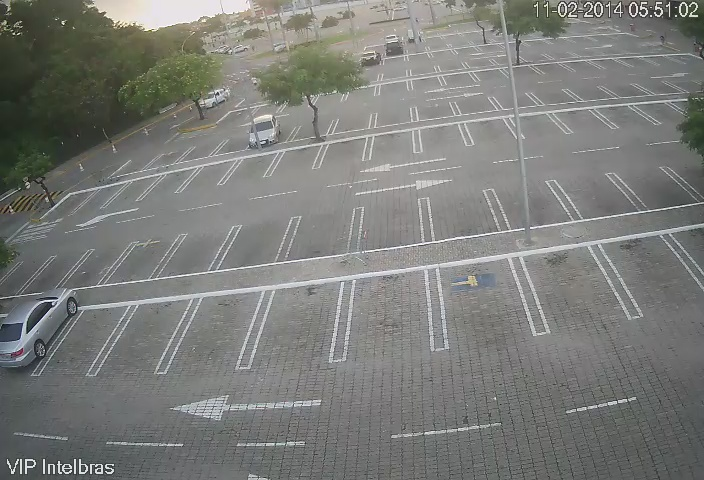car: (12, 295, 59, 360), (241, 118, 280, 147)
lot: (430, 255, 542, 345), (337, 263, 443, 355), (516, 242, 624, 323), (264, 270, 345, 372), (598, 237, 693, 312), (182, 286, 255, 374), (117, 298, 183, 371), (484, 177, 568, 226), (609, 162, 689, 212), (67, 298, 114, 380), (424, 186, 500, 235), (354, 196, 425, 246), (550, 173, 631, 216), (296, 205, 356, 259), (168, 224, 221, 281), (232, 216, 292, 266), (115, 232, 169, 281), (551, 108, 613, 140), (31, 249, 78, 291), (632, 97, 690, 131), (592, 102, 652, 134), (72, 245, 116, 288), (506, 111, 565, 143), (272, 147, 324, 179), (463, 121, 521, 149), (414, 126, 471, 154), (193, 159, 236, 196), (372, 129, 417, 161), (79, 181, 117, 217), (320, 140, 367, 169), (231, 156, 273, 186), (50, 189, 86, 222), (151, 168, 190, 198), (411, 98, 458, 122), (607, 72, 645, 101), (10, 253, 38, 292), (117, 178, 153, 208), (491, 90, 540, 110), (574, 80, 616, 103), (456, 95, 503, 115), (640, 74, 679, 98), (336, 115, 377, 137), (152, 147, 190, 170), (527, 84, 572, 103), (291, 122, 332, 142), (374, 106, 416, 125), (185, 139, 220, 161), (223, 131, 252, 155), (123, 155, 151, 175)
